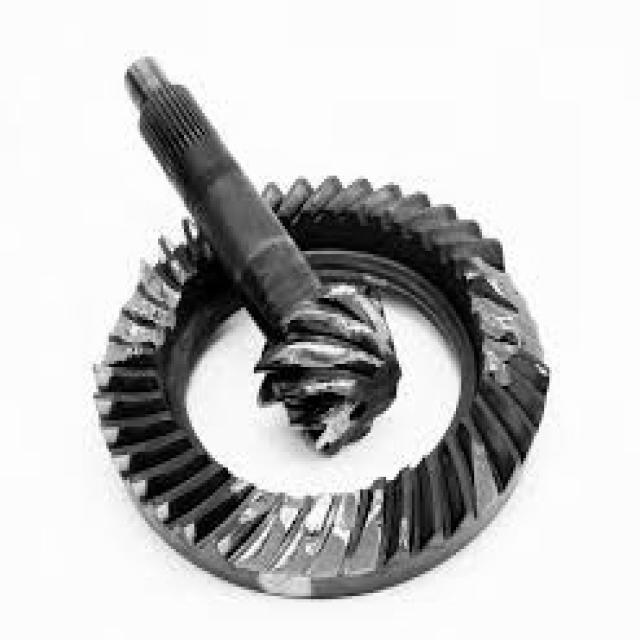Fault-Exist: (59, 27, 599, 605), (251, 258, 411, 454), (262, 462, 425, 604), (106, 226, 211, 442), (453, 246, 527, 408)
